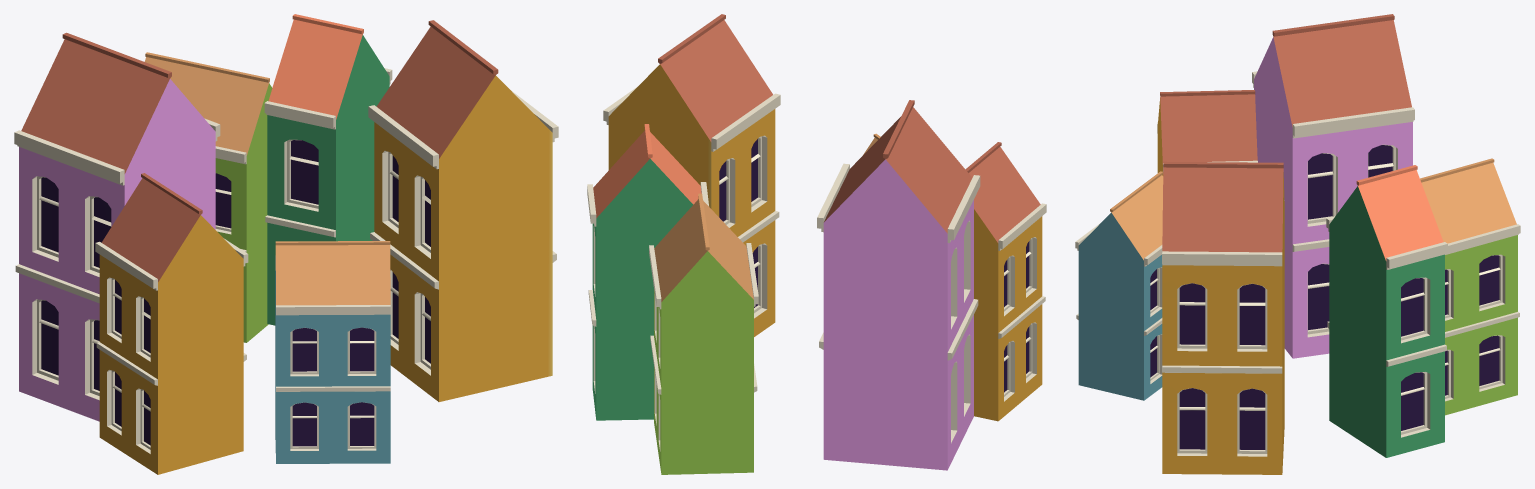
Rendered from M_CityTile_3.fbx.
The picture shows the model from 3 angles, left to right: view 1: azimuth 30°, elevation 25°; view 2: azimuth 150°, elevation 25°; view 3: azimuth 270°, elevation 25°; orthographic projection. The views are drawn at different scales.
Visible parts, largest first — view 1: M_CityTile_3; view 2: M_CityTile_3; view 3: M_CityTile_3.
Part boxes in pixels (box(x1,y1,x2,y2)): M_CityTile_3: box(14, 14, 558, 474); M_CityTile_3: box(587, 14, 1046, 474); M_CityTile_3: box(1075, 14, 1520, 474).
Bounding box in the file's own units: 1.52 × 1.15 × 1.52.
